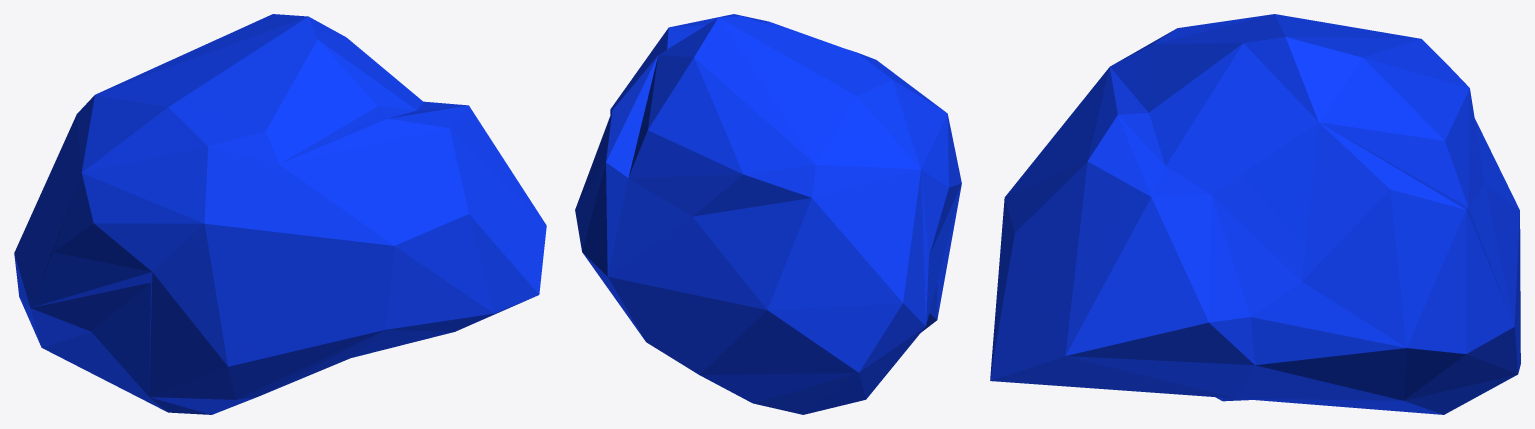
Rendered from SM_emissive_rock_17.fbx.
3 views of the same model, side by side, from view 1: azimuth 30°, elevation 25°; view 2: azimuth 150°, elevation 25°; view 3: azimuth 270°, elevation 25° (orthographic). The views are drawn at different scales.
Visible parts, largest first — view 1: emissive_rock_17; view 2: emissive_rock_17; view 3: emissive_rock_17.
Part boxes in pixels (x1,y1,x2,y2): emissive_rock_17: [14, 14, 546, 414]; emissive_rock_17: [575, 14, 961, 414]; emissive_rock_17: [990, 14, 1520, 414].
Size of the model in its own units: 174 by 147 by 159.
